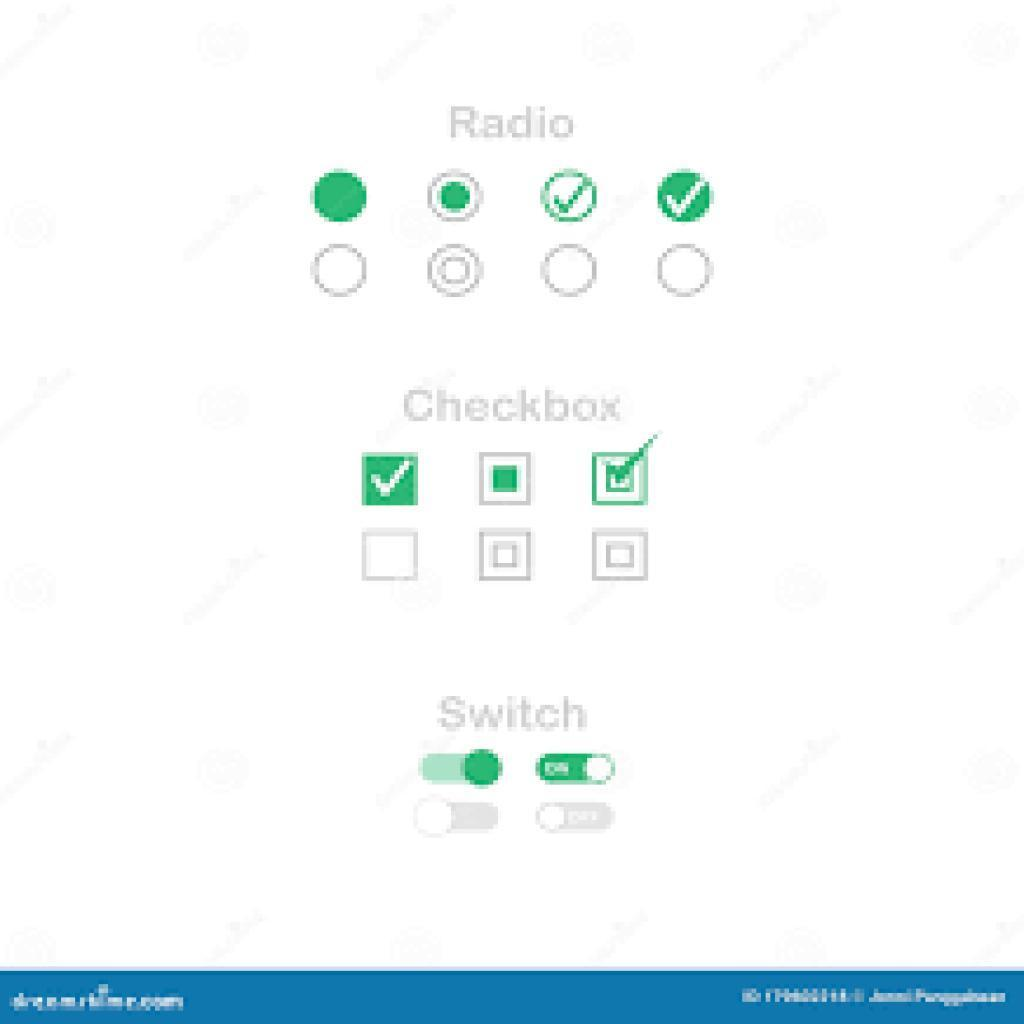checkbox: (472, 445, 537, 511), (587, 449, 653, 509), (358, 529, 425, 587), (362, 453, 422, 511)
radio: (541, 166, 604, 229), (538, 242, 602, 303), (310, 169, 375, 228), (652, 243, 717, 302), (422, 170, 490, 226), (656, 168, 716, 227), (309, 244, 371, 300), (424, 245, 487, 300)
switch: (419, 749, 507, 792), (416, 800, 504, 840), (535, 752, 623, 791), (535, 799, 618, 839)
